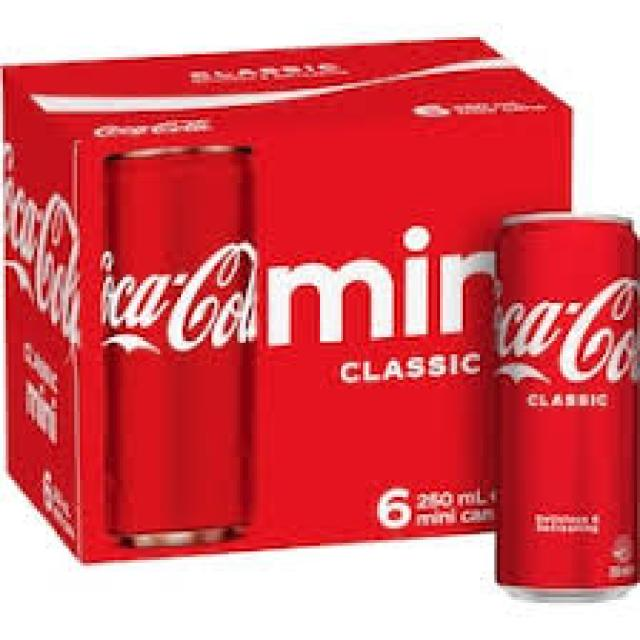Cans: (483, 203, 640, 606)
